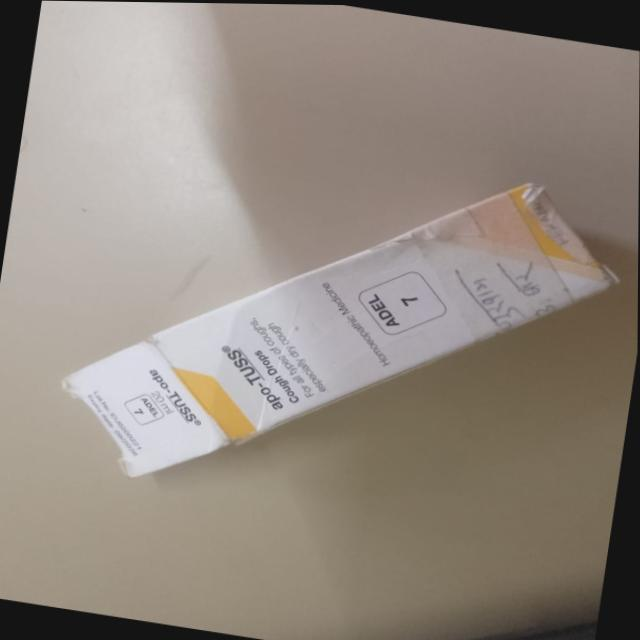medicine: (45, 168, 616, 491)
